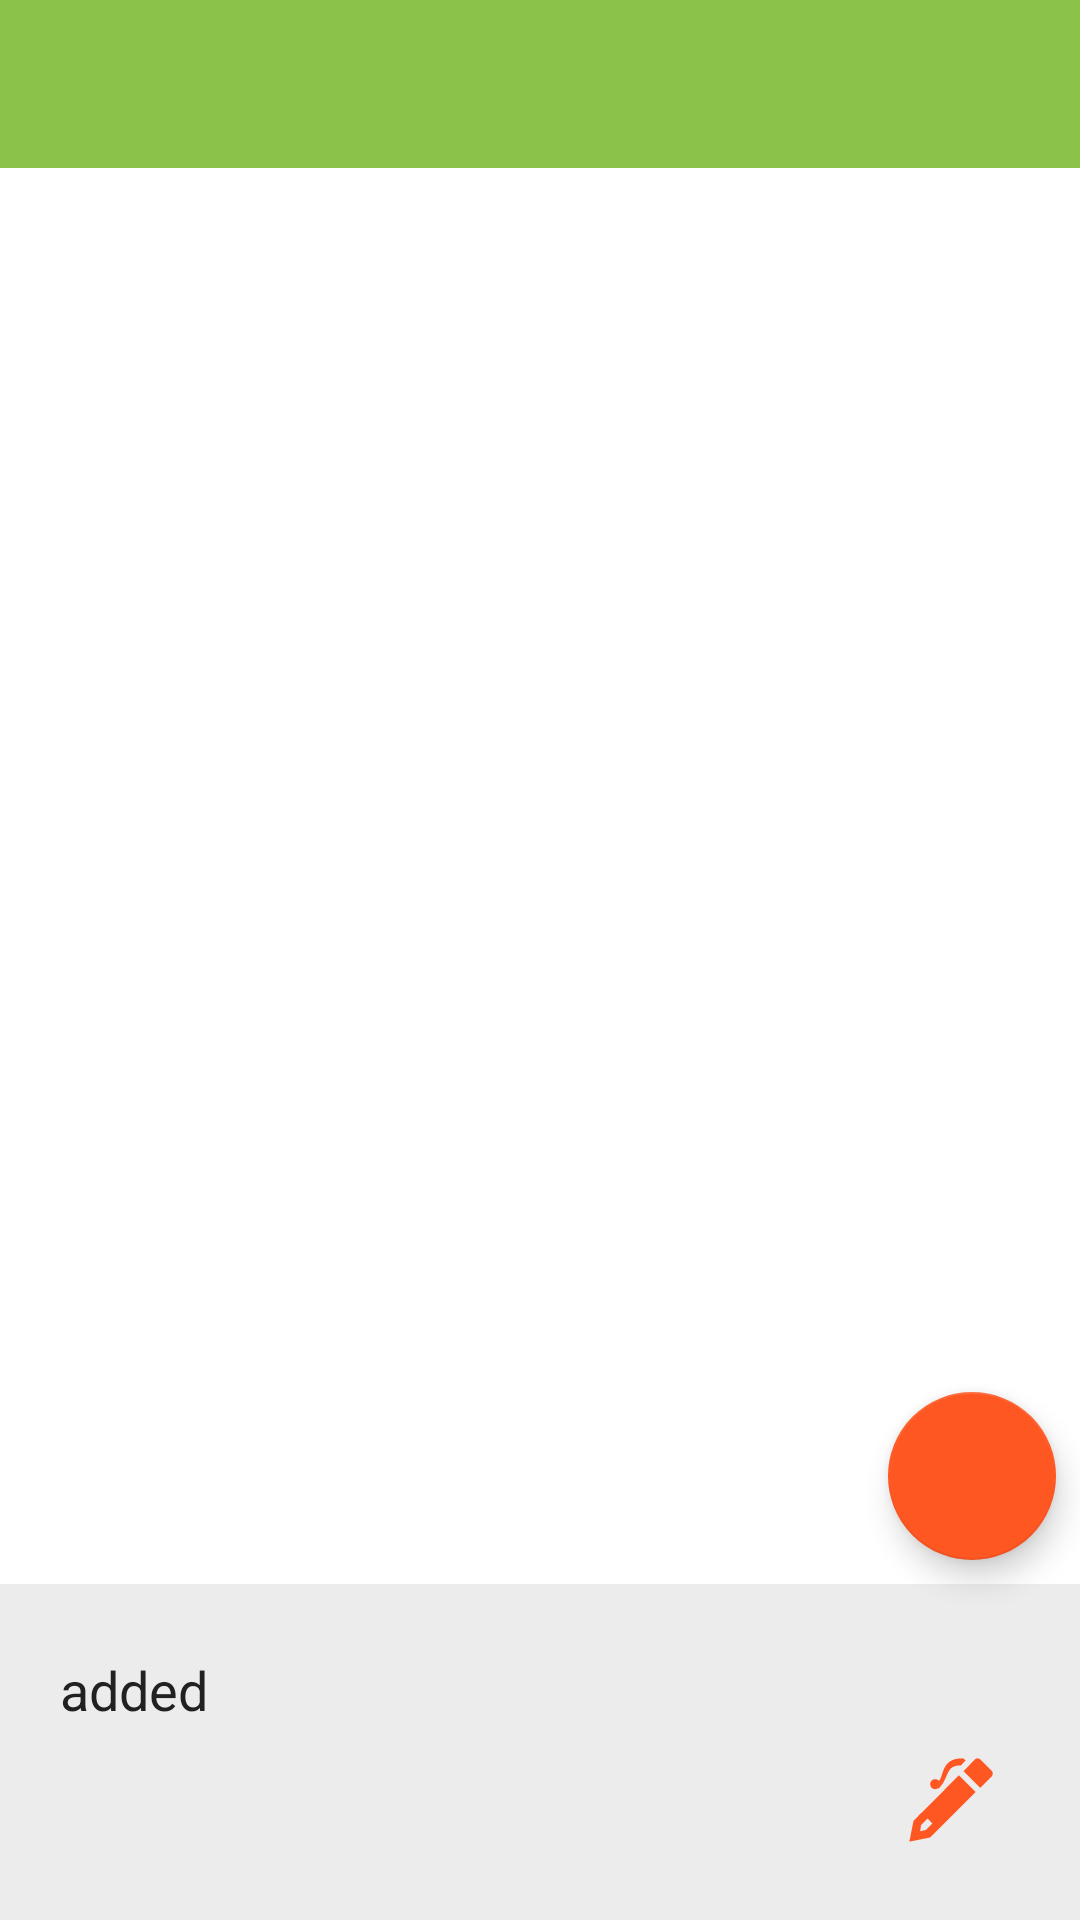

Where to tap for icons on this 1080px x 1920px app screen, as [x,y]:
edit date: [951,1800]
